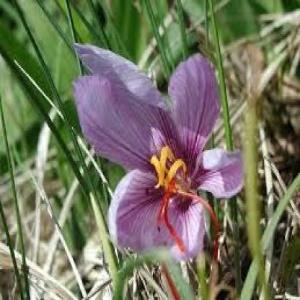Saffron: (72, 40, 253, 260)
